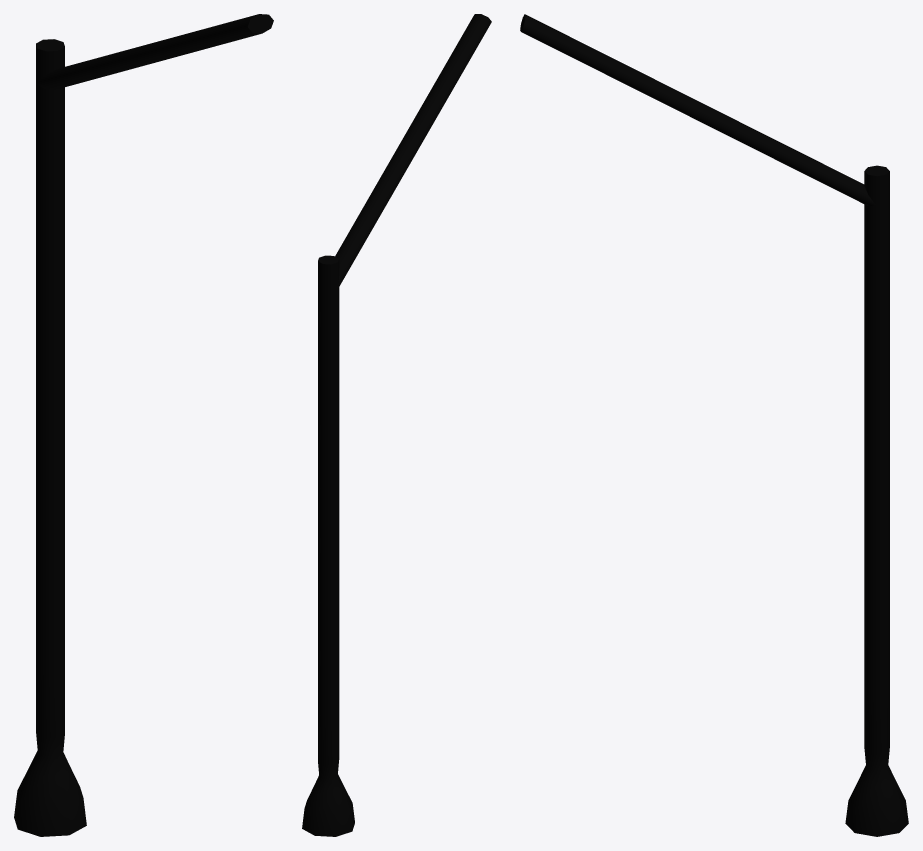
Rendered from stand.FBX.
The picture shows the model from 3 angles, left to right: view 1: azimuth 30°, elevation 25°; view 2: azimuth 150°, elevation 25°; view 3: azimuth 270°, elevation 25°; orthographic projection. The views are drawn at different scales.
Visible parts, largest first — view 1: Cylinder001; view 2: Cylinder001; view 3: Cylinder001.
Boxes of the visible parts, <box> form: Cylinder001: <box>14,14,273,836</box>; Cylinder001: <box>302,14,491,836</box>; Cylinder001: <box>520,14,908,836</box>.
Size of the model in its own units: 4.98 by 70.02 by 30.54.
